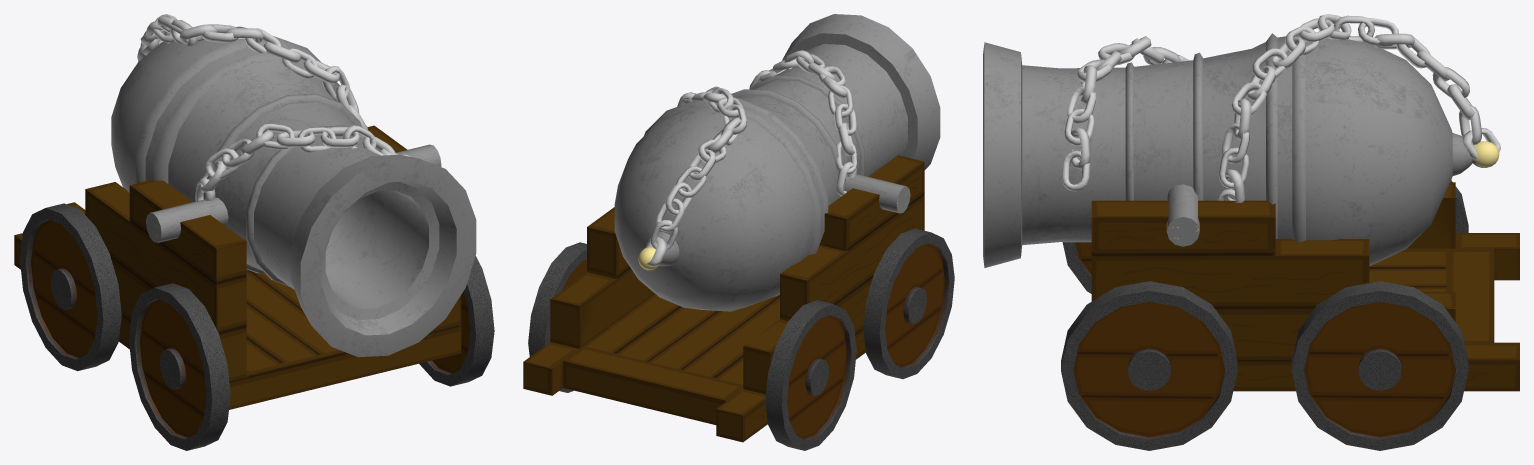
File: Heavy_Cannon.FBX
3 views of the same model, side by side, from view 1: azimuth 30°, elevation 25°; view 2: azimuth 150°, elevation 25°; view 3: azimuth 270°, elevation 25° (orthographic). The views are drawn at different scales.
Visible parts, largest first — view 1: Cannon, Frame001, Wheel_005, Wheel_006, Torus022, Wheel_2, Pivot; view 2: Cannon, Frame001, Wheel_005, Wheel_006, Torus022, Wheel_004, Pivot; view 3: Cannon, Frame001, Wheel_004, Wheel_2, Torus022, Pivot, Wheel_005.
Boxes of the visible parts, <box> form: Cannon: <box>111,26,476,357</box>; Frame001: <box>14,125,461,409</box>; Wheel_005: <box>129,283,230,450</box>; Wheel_006: <box>20,203,121,371</box>; Torus022: <box>137,14,410,201</box>; Wheel_2: <box>419,256,494,386</box>; Pivot: <box>146,144,441,242</box>; Cannon: <box>614,14,940,311</box>; Frame001: <box>523,155,924,442</box>; Wheel_005: <box>863,228,954,379</box>; Wheel_006: <box>765,300,856,450</box>; Torus022: <box>645,50,856,266</box>; Wheel_004: <box>528,242,586,392</box>; Pivot: <box>845,174,910,213</box>; Cannon: <box>983,33,1499,267</box>; Frame001: <box>1091,182,1519,391</box>; Wheel_004: <box>1291,281,1468,450</box>; Wheel_2: <box>1061,281,1237,450</box>; Torus022: <box>1062,14,1500,203</box>; Pivot: <box>1166,184,1199,246</box>; Wheel_005: <box>1062,242,1091,293</box>.
Bounding box in the file's own units: 50.62 × 56.5 × 78.38.
